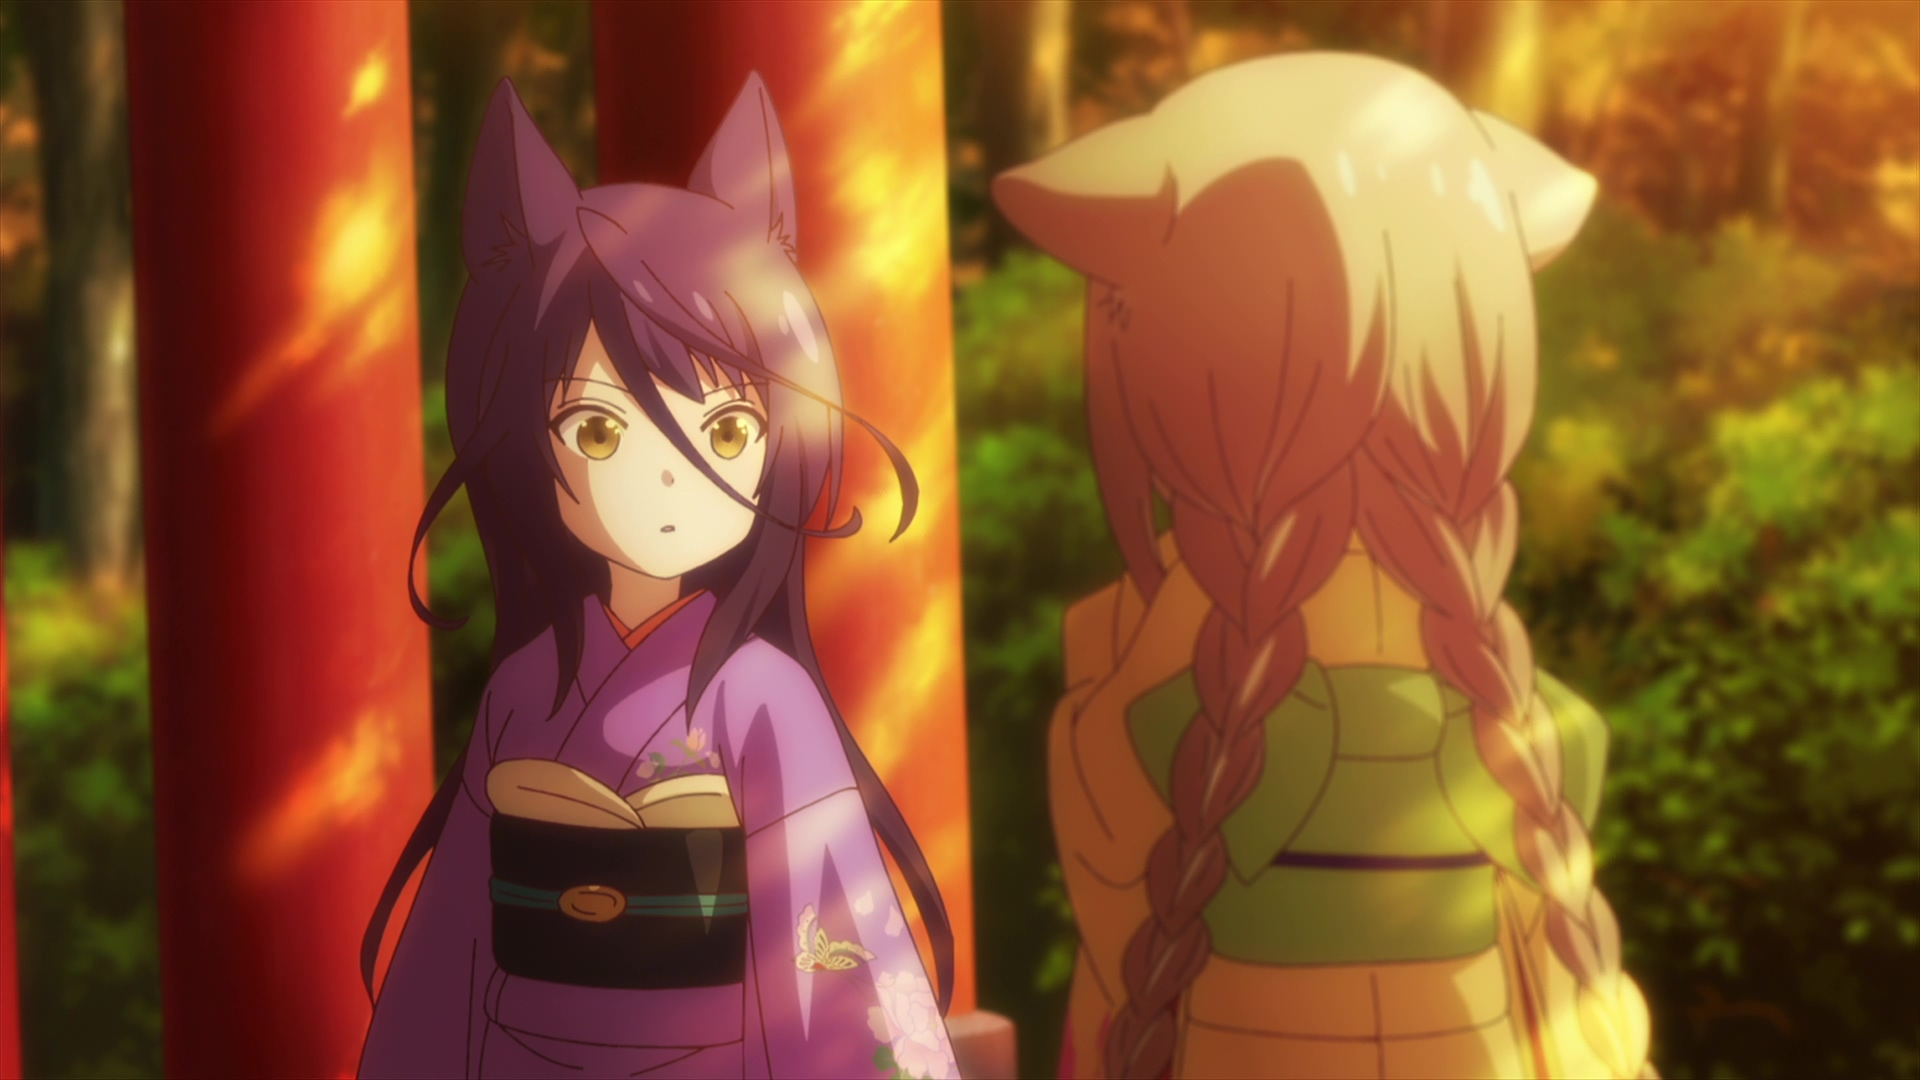柚: (992, 51, 1654, 1080)
皋: (357, 69, 957, 1080)
